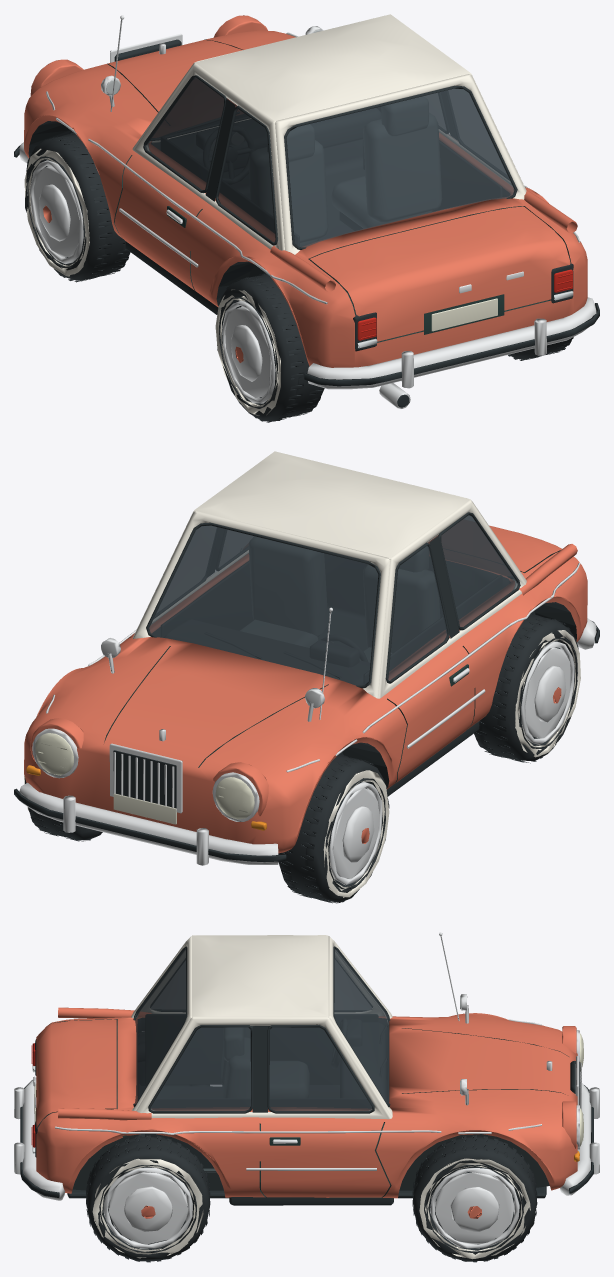
Rendered from dover_lod2.fbx.
The picture shows the model from 3 angles, top to bottom: view 1: azimuth 30°, elevation 25°; view 2: azimuth 150°, elevation 25°; view 3: azimuth 270°, elevation 25°; orthographic projection. The views are drawn at different scales.
Parts seen in each view (by area): view 1: Body, Wheel_RL_Mesh, Wheel_FL_Mesh; view 2: Body, Wheel_FL_Mesh, Wheel_RL_Mesh, Wheel_FR_Mesh; view 3: Body, Wheel_FR_Mesh, Wheel_RR_Mesh.
Boxes of the visible parts, x1,y1,x2,y2 form: Body: [14, 14, 599, 408]; Wheel_RL_Mesh: [215, 273, 324, 422]; Wheel_FL_Mesh: [24, 132, 130, 282]; Body: [14, 451, 599, 865]; Wheel_FL_Mesh: [278, 754, 389, 903]; Wheel_RL_Mesh: [474, 614, 580, 763]; Wheel_FR_Mesh: [24, 776, 102, 841]; Body: [14, 932, 599, 1205]; Wheel_FR_Mesh: [412, 1135, 537, 1262]; Wheel_RR_Mesh: [86, 1135, 210, 1262].
Bounding box in the file's own units: 201 × 169 × 377.
